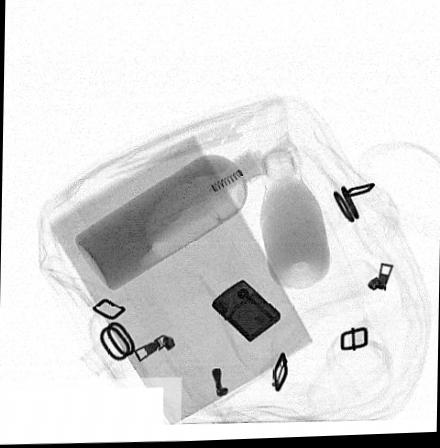Lighter: (209, 279, 280, 344)
